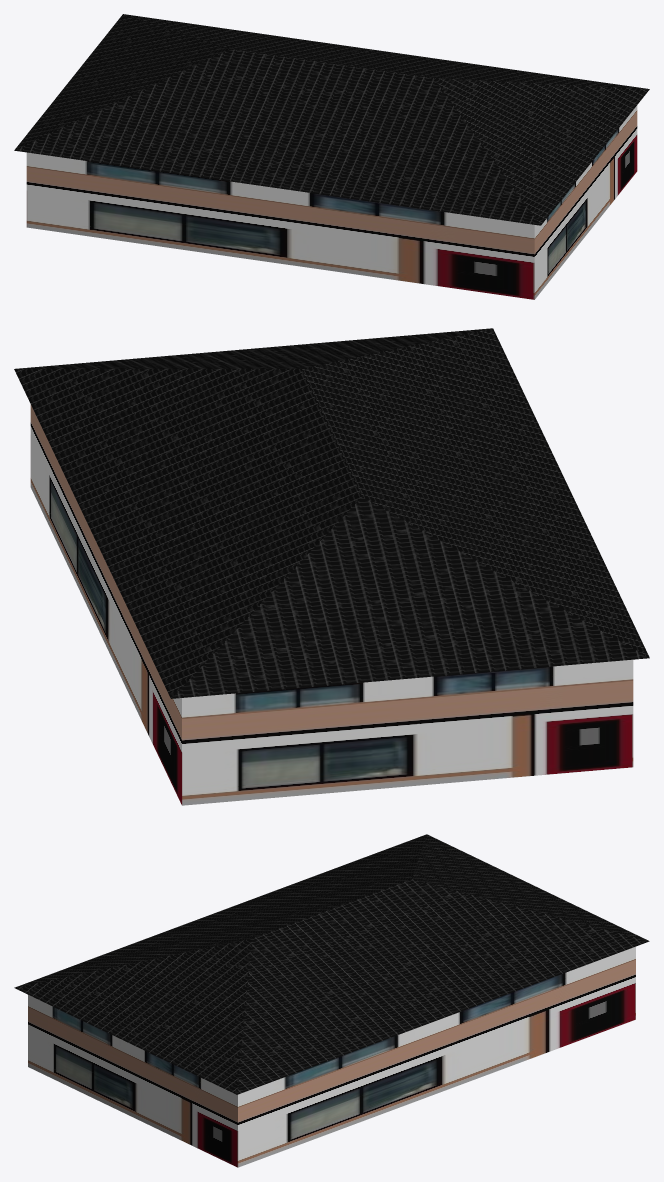
3 views of the same model, one above another, from view 1: azimuth 30°, elevation 25°; view 2: azimuth 150°, elevation 25°; view 3: azimuth 270°, elevation 25° (orthographic). The views are drawn at different scales.
Visible parts, largest first — view 1: CityEngineMaterial_14_m, CityEngineMaterial_5_m; view 2: CityEngineMaterial_14_m, CityEngineMaterial_5_m; view 3: CityEngineMaterial_14_m, CityEngineMaterial_5_m.
Boxes of the visible parts, x1,y1,x2,y2 form: CityEngineMaterial_14_m: (14, 14, 649, 225); CityEngineMaterial_5_m: (26, 105, 637, 299); CityEngineMaterial_14_m: (14, 328, 649, 698); CityEngineMaterial_5_m: (30, 404, 633, 805); CityEngineMaterial_14_m: (14, 834, 649, 1094); CityEngineMaterial_5_m: (28, 946, 635, 1167).
Size of the model in its own units: 59.11 by 14.2 by 60.94.
